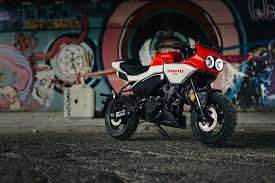motorcycle: (100, 39, 260, 149)
